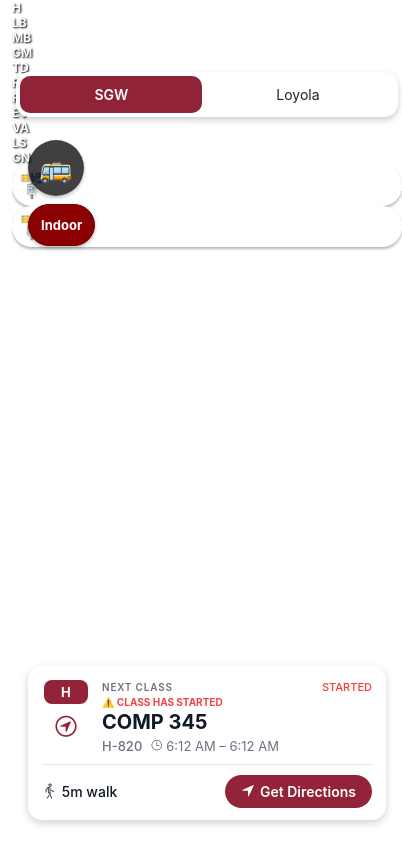
Scenario: <Index /> › Indoor map entry points › closes IndoorMapModal and clears preset route when close is pressed
Click the button "Indoor": click(62, 225) x1=28 y1=204 x2=95 y2=246
(page scrolled)
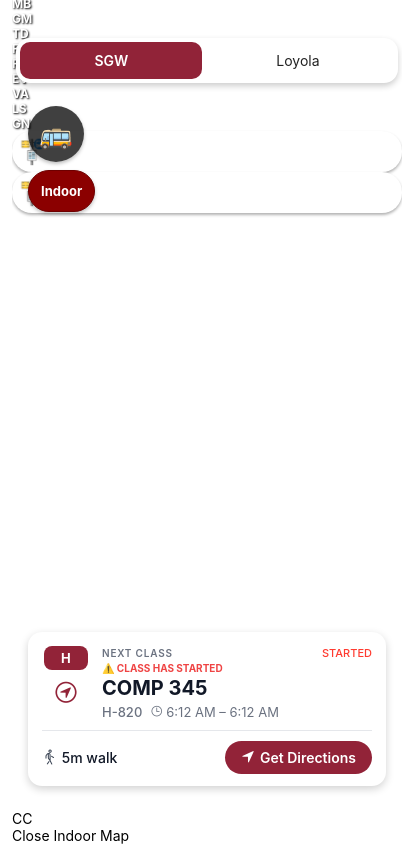
Now the element with test id "indoor-map-modal" is shown, box x1=12 y1=810 x2=129 y2=843
Click the element with test id "indoor-map-close": click(71, 836) x1=12 y1=827 x2=129 y2=843
(page scrolled)
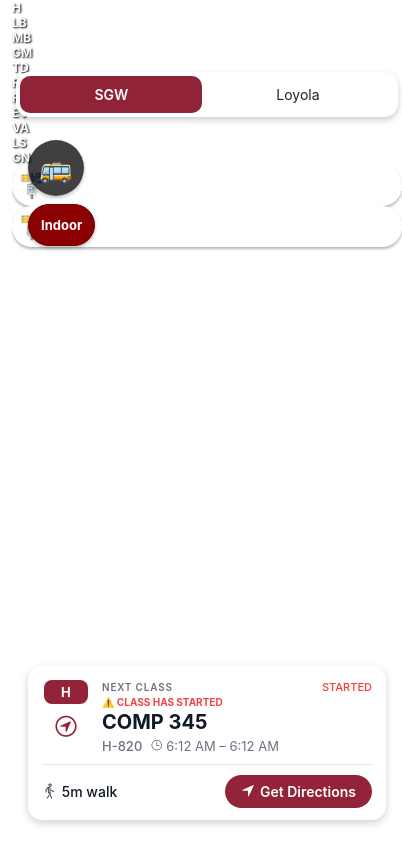
Now the element with test id "indoor-map-modal" is gone
